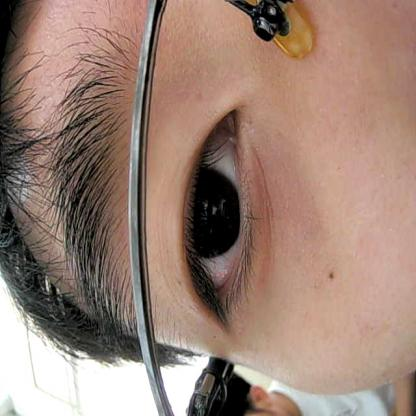Straight: (168, 92, 272, 328)
